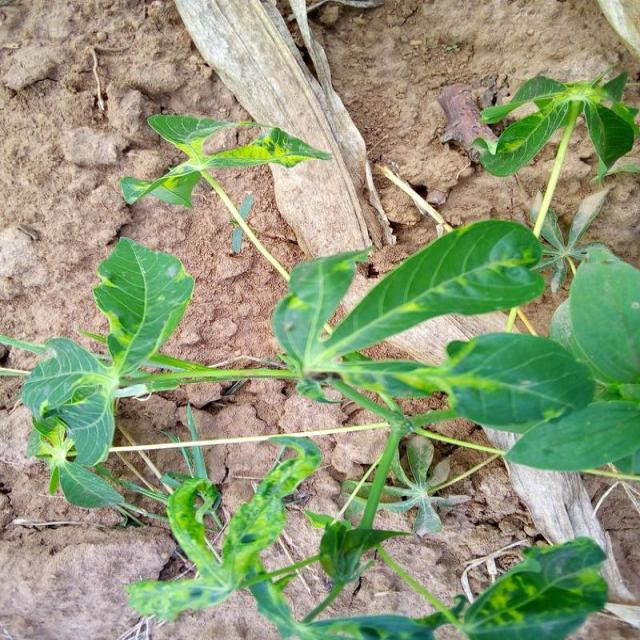cassava leaf: (318, 216, 546, 367), (443, 330, 596, 433), (462, 534, 610, 638), (93, 235, 196, 378)
